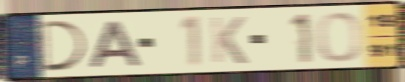1: (288, 12, 315, 65), (179, 14, 202, 69)
A: (88, 19, 145, 70)
D: (38, 19, 90, 73)
K: (209, 15, 250, 66)
O: (314, 10, 363, 64)
